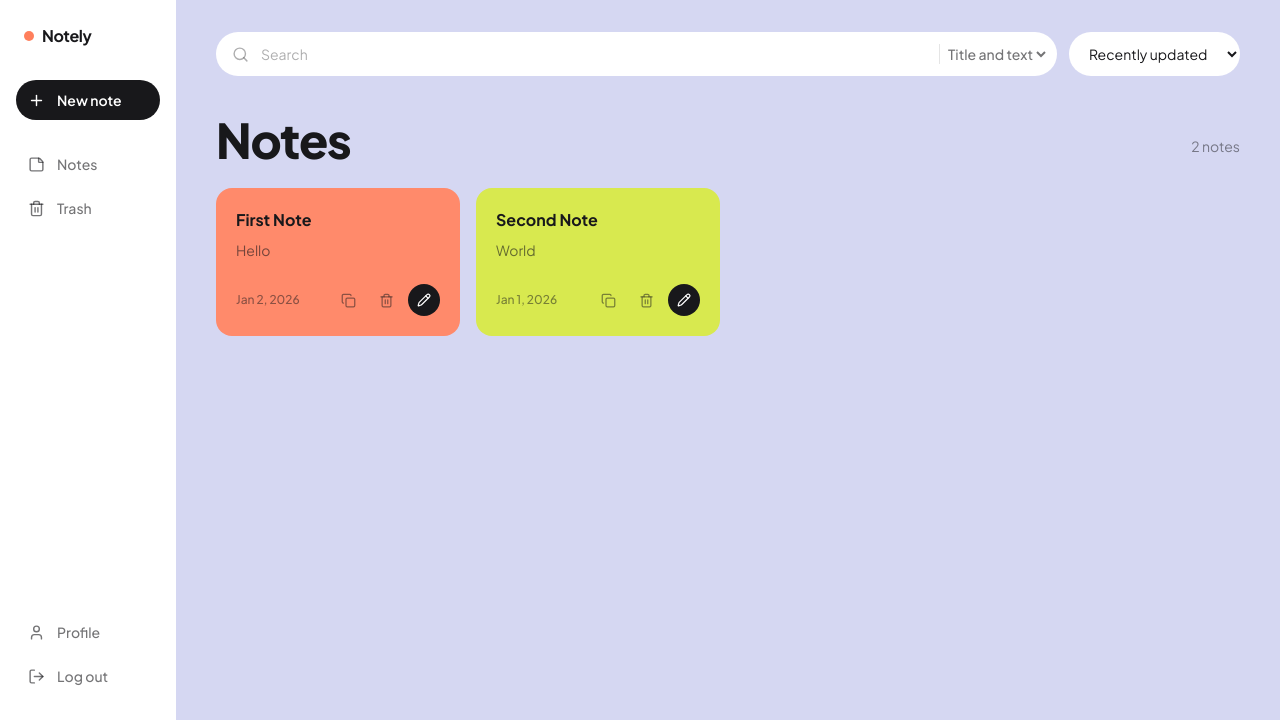
it: search in title only ignores matches in the content
The image size is (1280, 720).
Select "Title only" in the dropdown named "Search in": (996, 54) [944,36,1049,72]
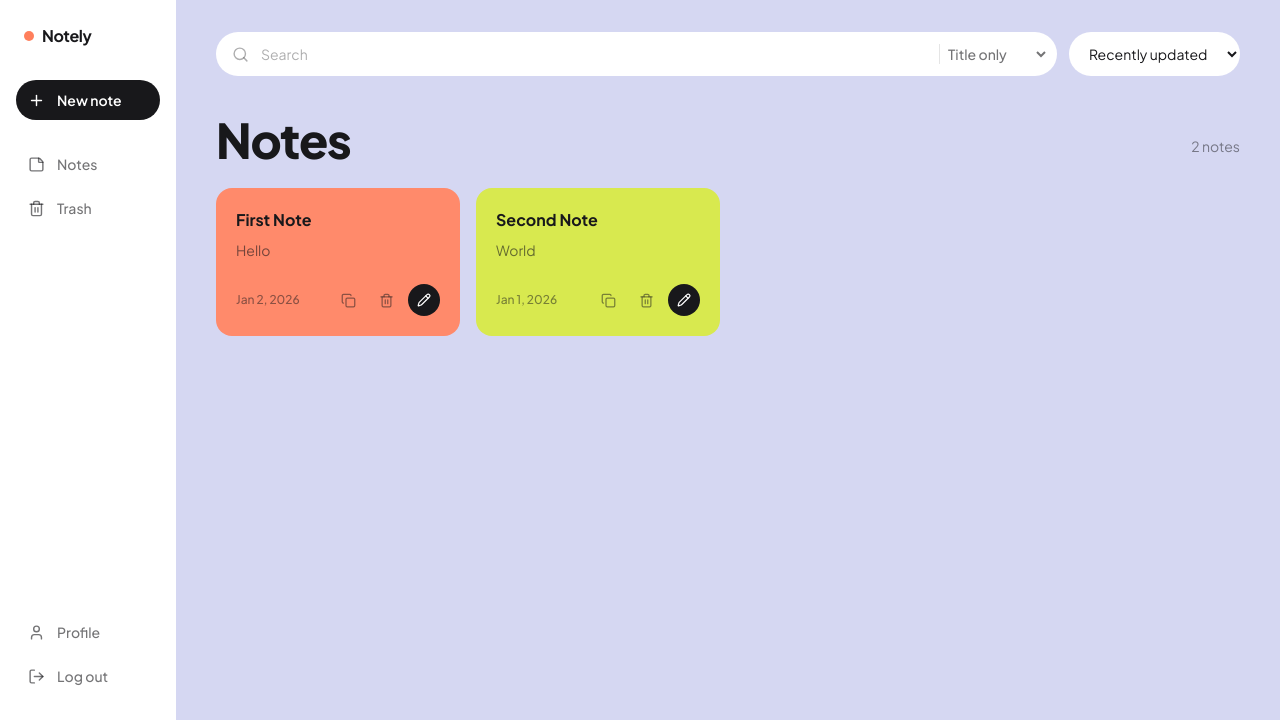
"World" lives in the content of the second note, never in a title
In the search field named "Search notes": (594, 54) [249,32,939,76], type "world"
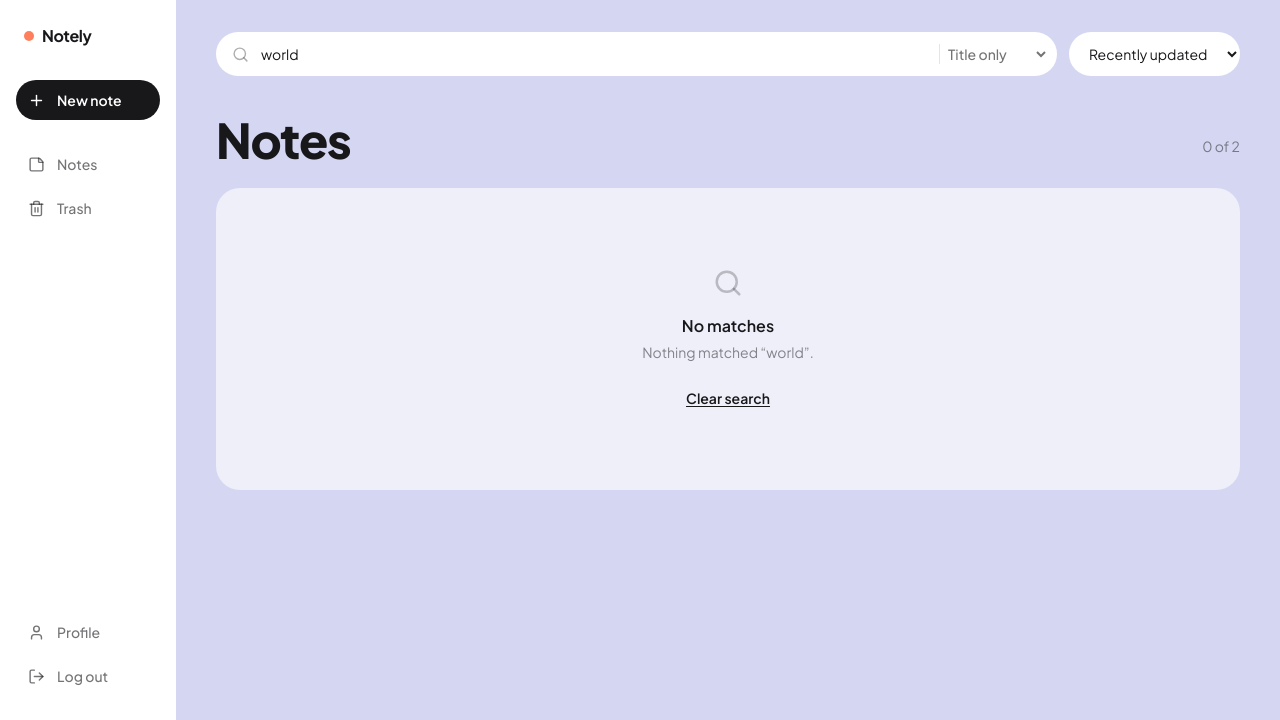
Expected: the heading "No matches" is shown, [682,315,774,336]
